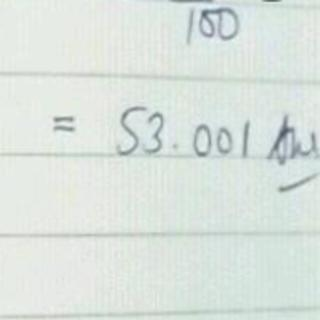.: (168, 138, 180, 155)
0: (192, 122, 214, 156), (216, 126, 235, 152)
1: (238, 117, 255, 159)
3: (144, 107, 172, 156)
5: (111, 103, 144, 159)
